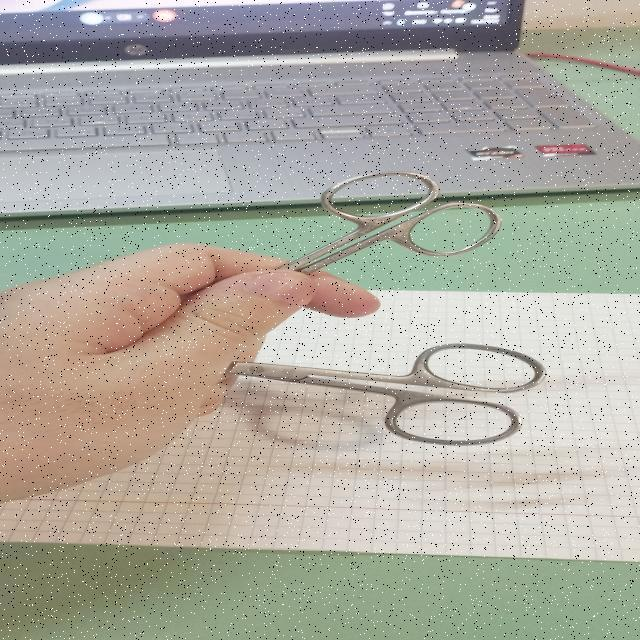scissors: (200, 164, 510, 346), (127, 338, 557, 450)
